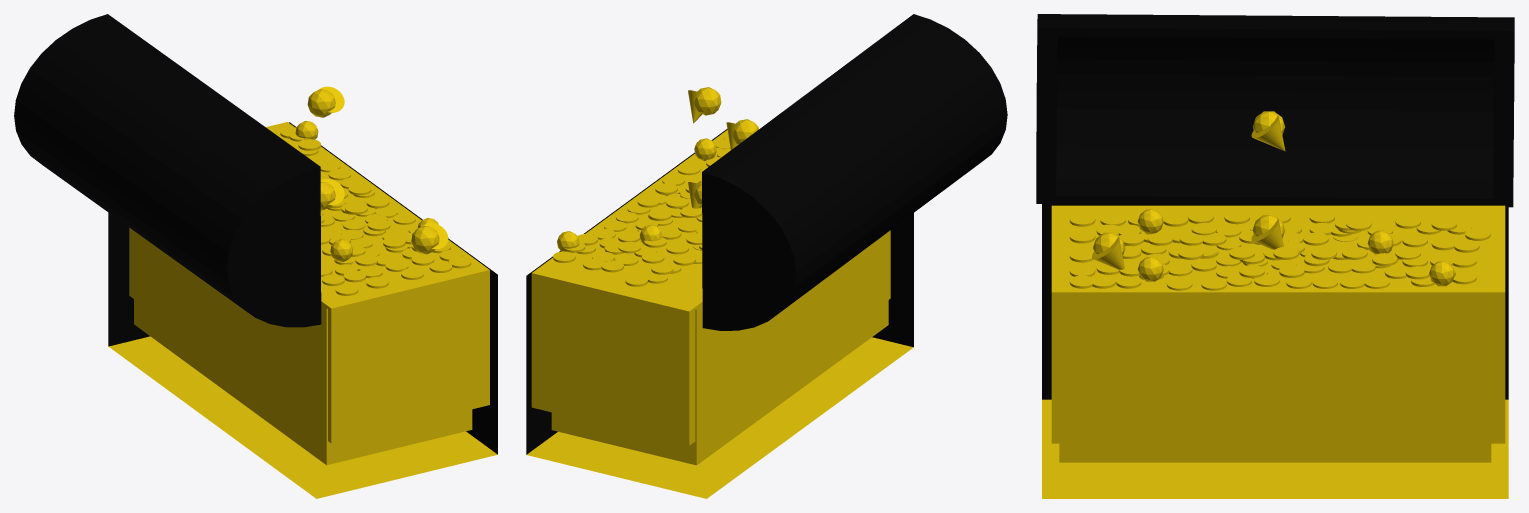
File: rostislav.glb
3 renders of one model, left to right at view 1: azimuth 30°, elevation 25°; view 2: azimuth 150°, elevation 25°; view 3: azimuth 270°, elevation 25°, orthographic. The views are drawn at different scales.
Visible parts, largest first — view 1: Cylinder.6318; view 2: Cylinder.6318; view 3: Cylinder.6318.
Part boxes in pixels (<box>): Cylinder.6318: <box>14,14,497,498</box>; Cylinder.6318: <box>526,14,1007,498</box>; Cylinder.6318: <box>1036,14,1514,498</box>.
Bounding box in the file's own units: 4.23 × 4.93 × 5.73.
